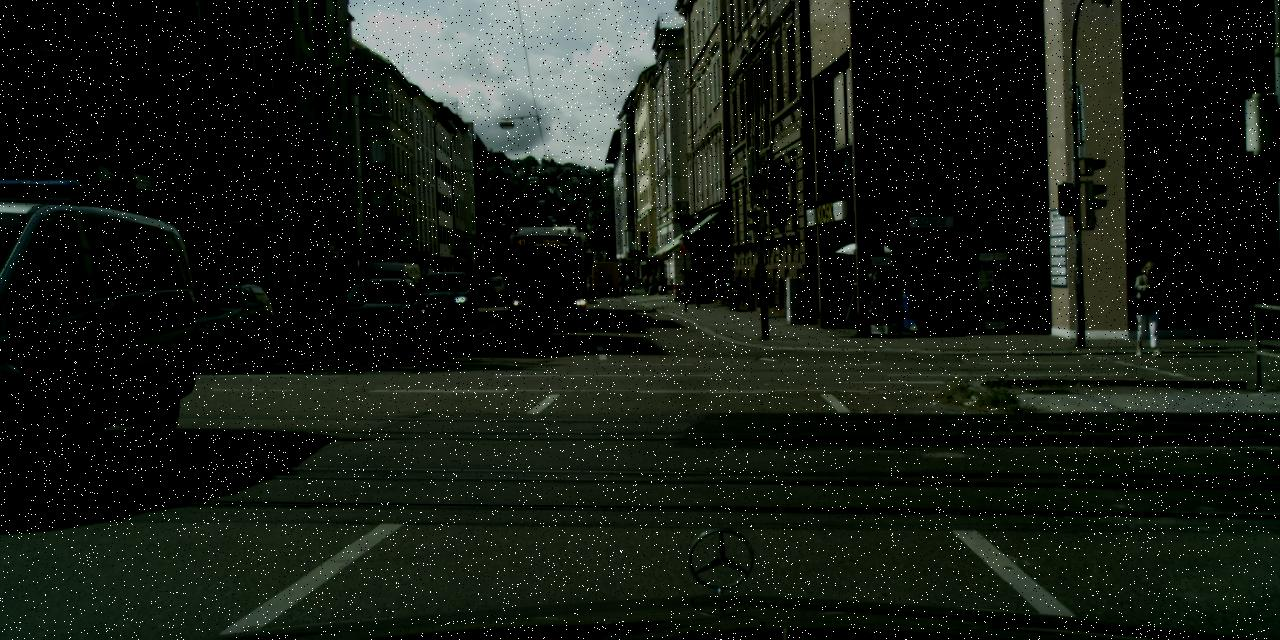ped: (1130, 259, 1169, 355), (689, 269, 704, 309), (641, 270, 660, 296), (622, 272, 630, 294)
